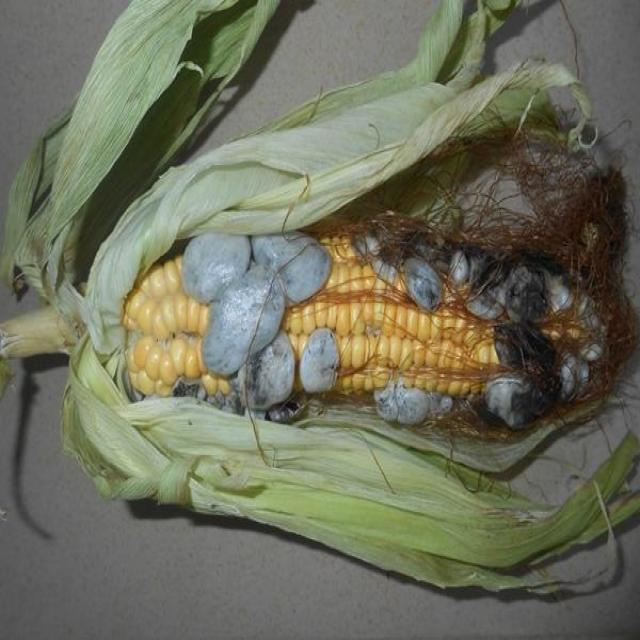Leaf_Scald: (68, 89, 629, 580)
